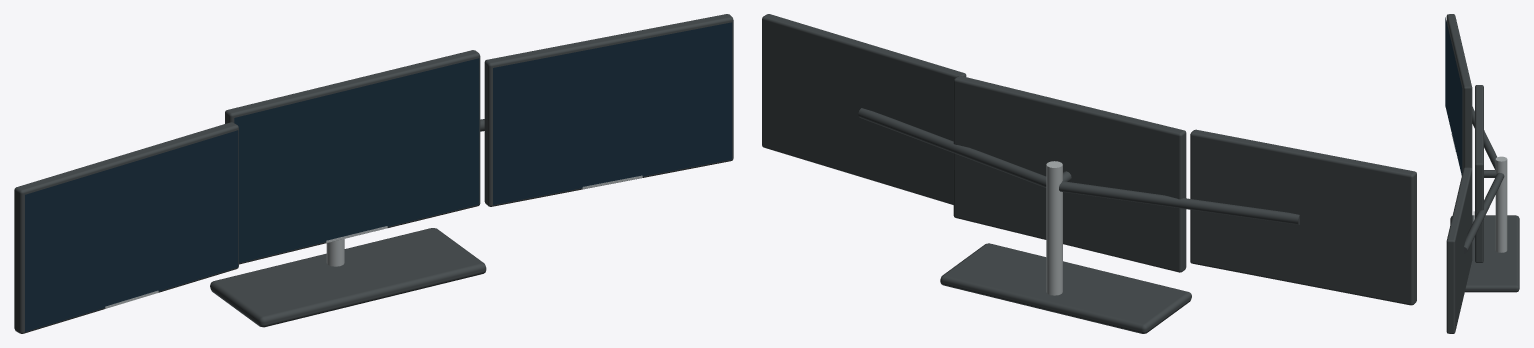
Rendered from mon_triple_coding-3dec1679b4aa.glb.
3 views of the same model, side by side, from view 1: azimuth 30°, elevation 25°; view 2: azimuth 150°, elevation 25°; view 3: azimuth 270°, elevation 25° (orthographic). The views are drawn at different scales.
Visible parts, largest first — view 1: Screen_Surface, surface_graphite, surface_steel; view 2: surface_graphite, surface_steel; view 3: surface_graphite, Screen_Surface, surface_steel.
Part boxes in pixels (x1,y1,x2,y2): Screen_Surface: (25,22,732,331); surface_graphite: (14,14,733,333); surface_steel: (104,175,642,308); surface_graphite: (762,14,1416,333); surface_steel: (1046,161,1062,295); surface_graphite: (1446,14,1519,333); Screen_Surface: (1445,17,1462,175); surface_steel: (1451,133,1507,252).
Bounding box in the file's own units: 1.64 × 0.4475 × 0.2252.
